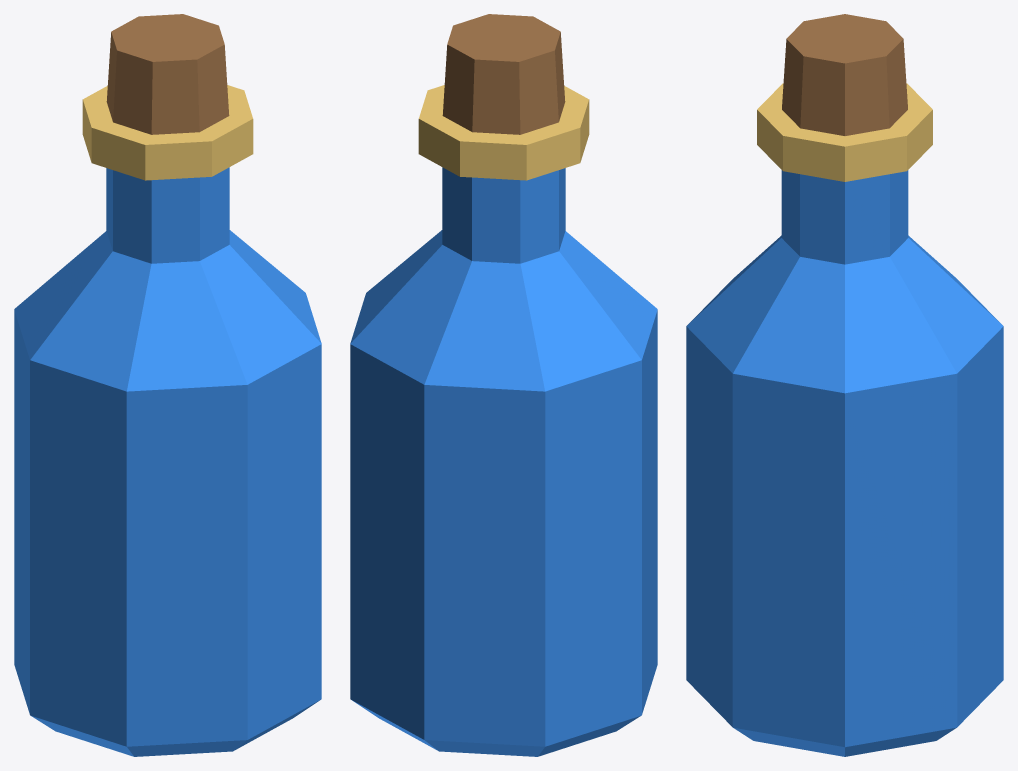
The model's file is potion_mana.glb.
The picture shows the model from 3 angles, left to right: view 1: azimuth 30°, elevation 25°; view 2: azimuth 150°, elevation 25°; view 3: azimuth 270°, elevation 25°; orthographic projection.
Parts seen in each view (by area): view 1: potion_mana; view 2: potion_mana; view 3: potion_mana.
Part boxes in pixels (x1=…): potion_mana: x1=14, y1=14, x2=321, y2=756; potion_mana: x1=350, y1=14, x2=657, y2=756; potion_mana: x1=686, y1=14, x2=1003, y2=756.
Bounding box in the file's own units: 0.13 × 0.3 × 0.13.
